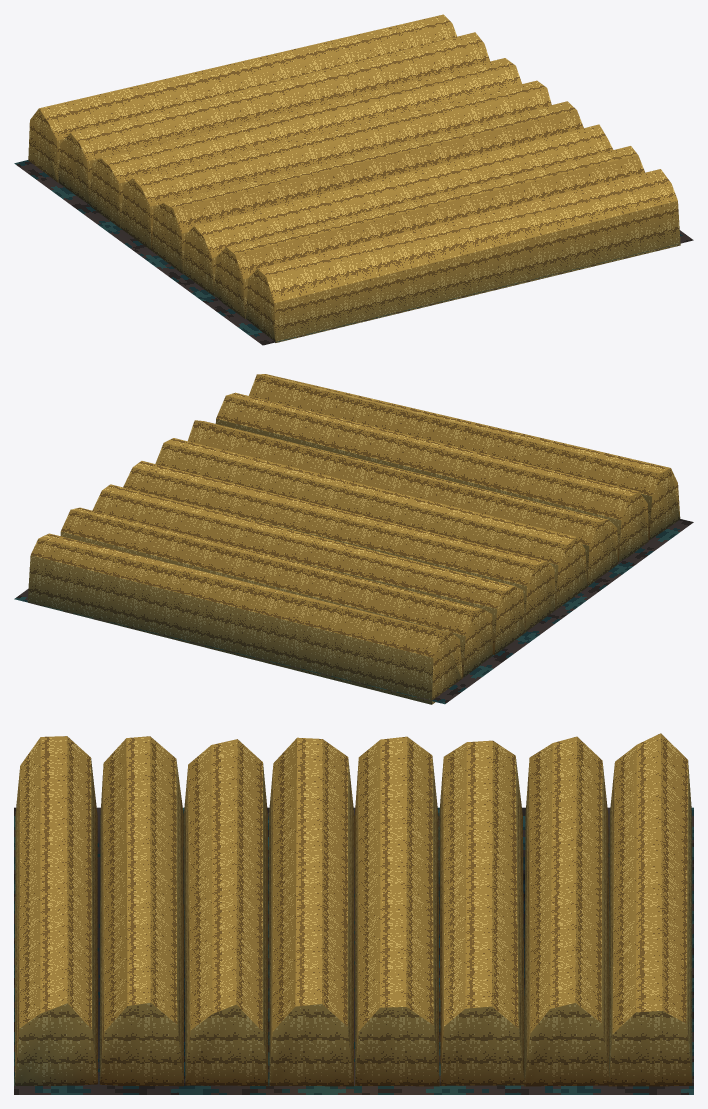
Rendered from mnat.field.glb.
3 views of the same model, one above another, from view 1: azimuth 30°, elevation 25°; view 2: azimuth 150°, elevation 25°; view 3: azimuth 270°, elevation 25° (orthographic). The views are drawn at different scales.
Visible parts, largest first — view 1: kit_crop, kit_shell_soil; view 2: kit_crop, kit_shell_soil; view 3: kit_crop, kit_shell_soil.
Boxes of the visible parts, bbox=[...] form: kit_crop: bbox=[28, 14, 680, 342]; kit_shell_soil: bbox=[14, 160, 693, 345]; kit_crop: bbox=[27, 374, 680, 704]; kit_shell_soil: bbox=[14, 519, 693, 704]; kit_crop: bbox=[14, 733, 692, 1086]; kit_shell_soil: bbox=[14, 807, 693, 1094].
Size of the model in its own units: 8 by 1.16 by 8.
Materials: 2 (2 with a texture image).
